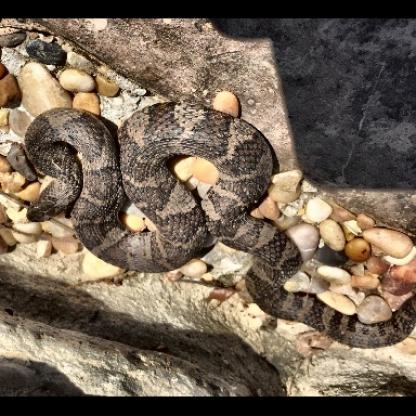Snake: (8, 38, 411, 373)
